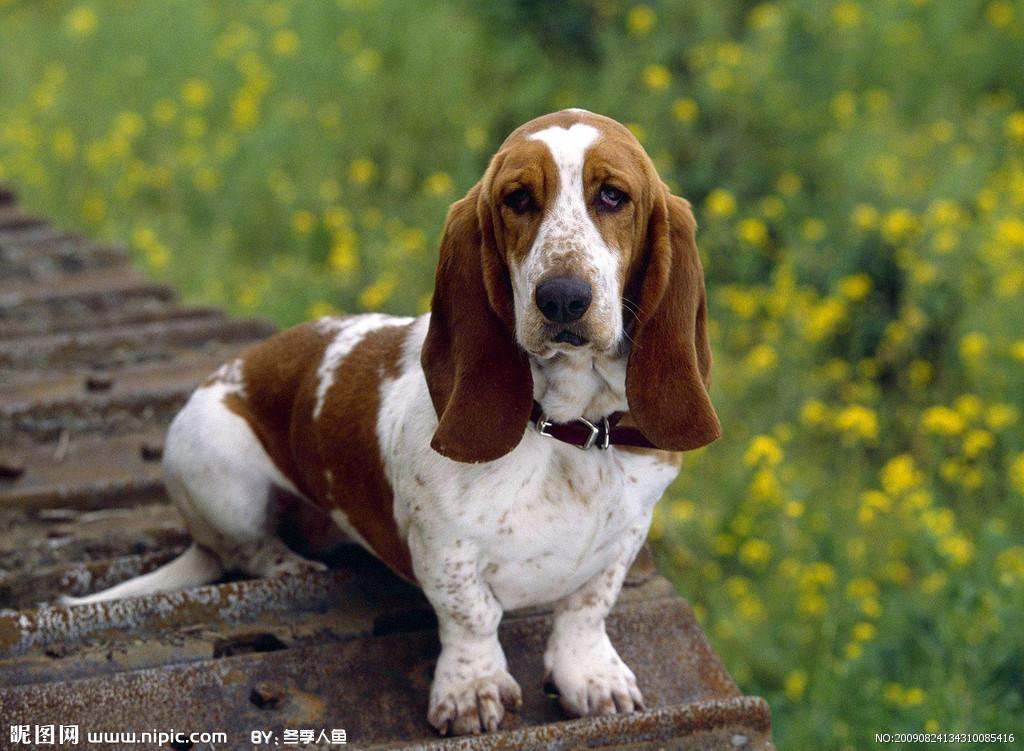dog: (50, 102, 728, 724)
